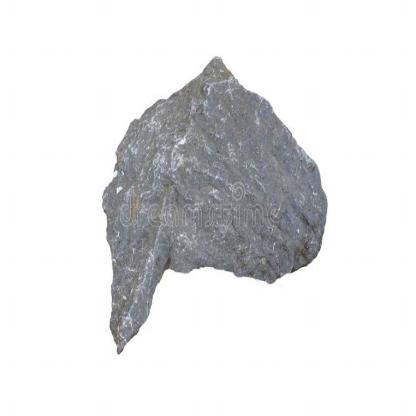Sedimentary_Limestone: (89, 48, 345, 370)
